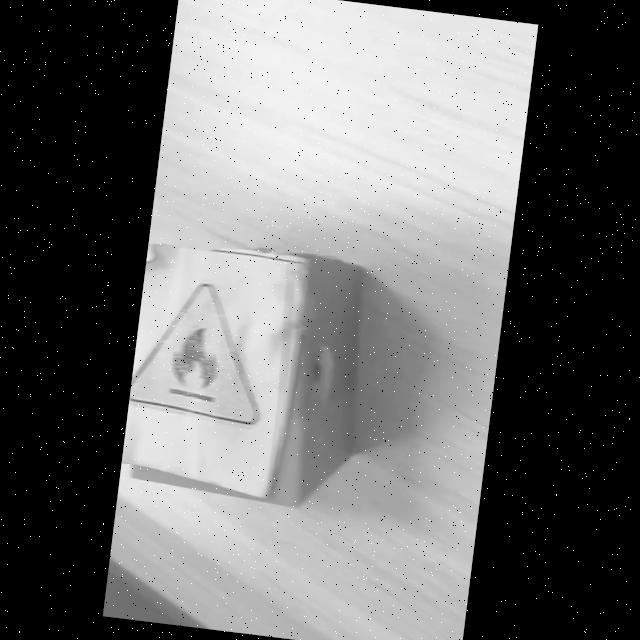Fire: (129, 283, 259, 425)
